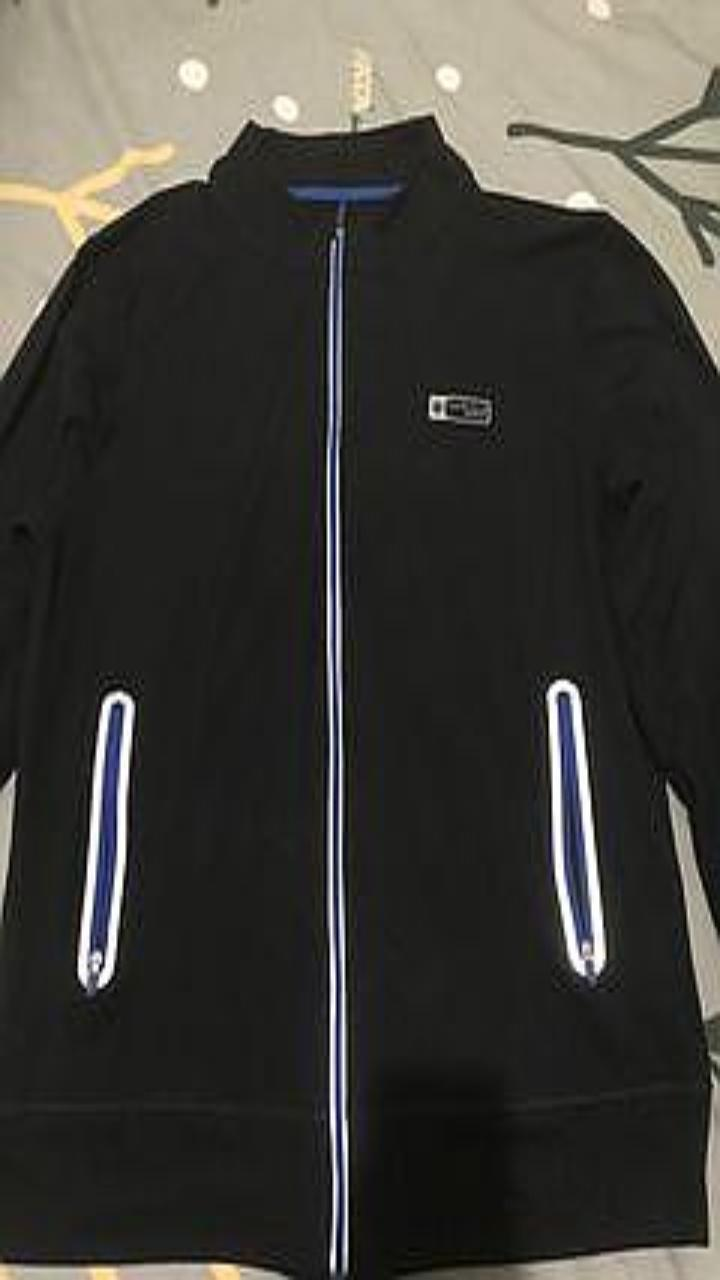Sports_Jacket: (0, 113, 719, 1279)
